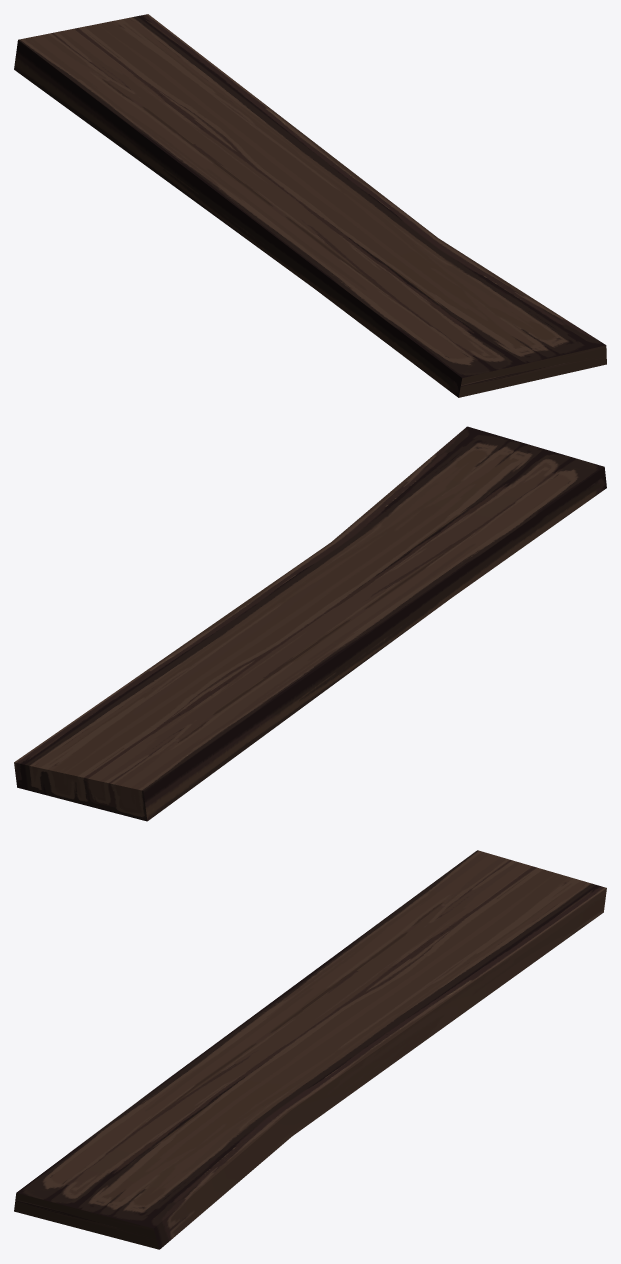
File: SM_PROP_plank_battle_01.fbx
3 views of the same model, one above another, from view 1: azimuth 30°, elevation 25°; view 2: azimuth 150°, elevation 25°; view 3: azimuth 330°, elevation 25° (orthographic).
Visible parts, largest first — view 1: SM_PROP_plank_battle_01; view 2: SM_PROP_plank_battle_01; view 3: SM_PROP_plank_battle_01.
Boxes of the visible parts, box(x1,y1,x2,y2) form: SM_PROP_plank_battle_01: box(14, 14, 606, 397); SM_PROP_plank_battle_01: box(14, 426, 606, 821); SM_PROP_plank_battle_01: box(14, 850, 606, 1249).
Size of the model in its own units: 34.02 by 6.48 by 183.
